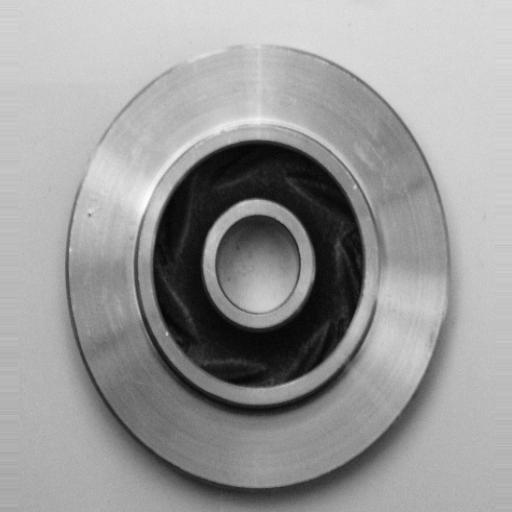unpolished_casting: (64, 41, 457, 494)
